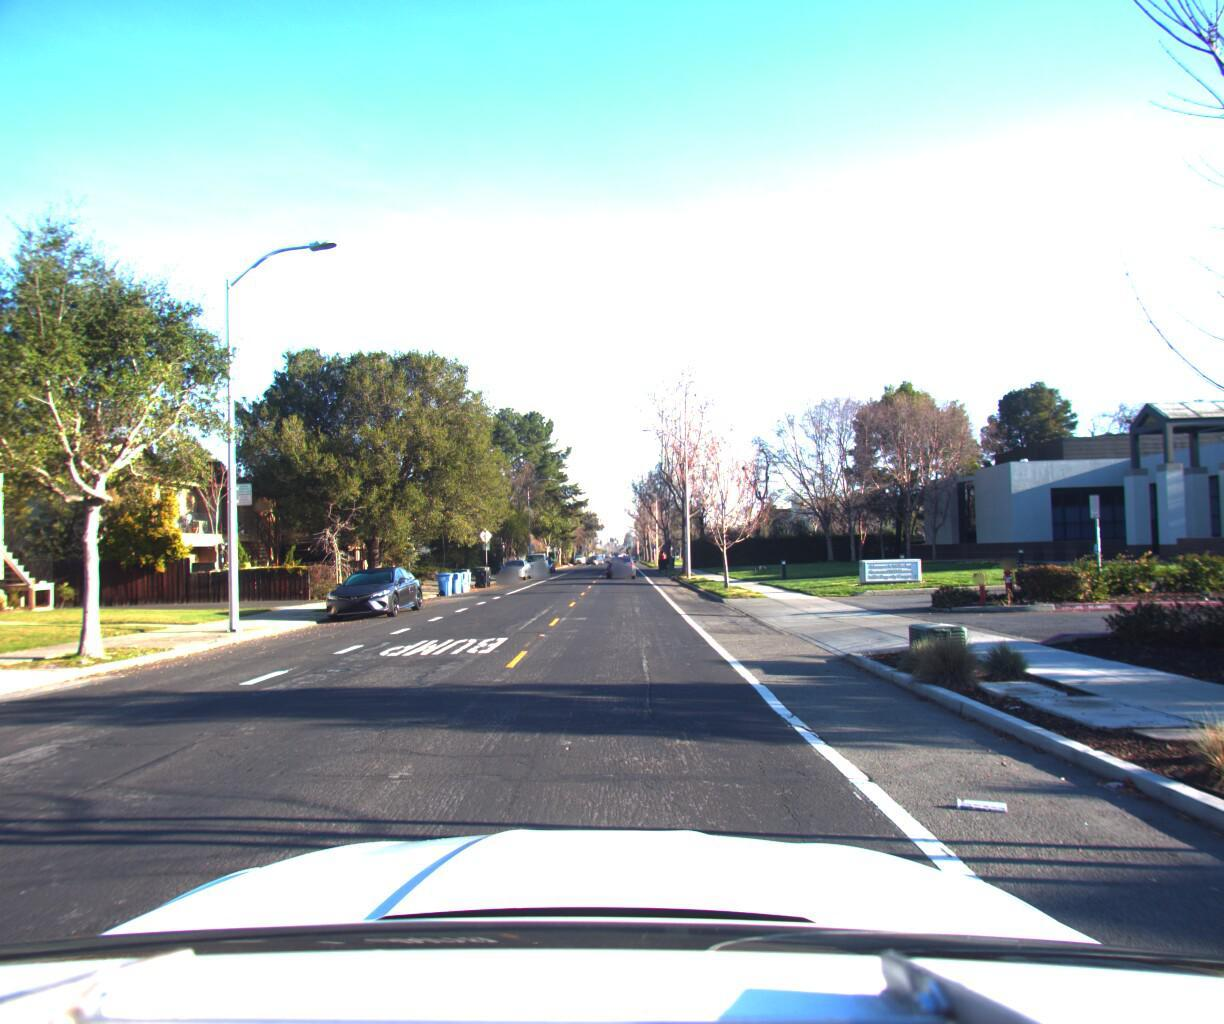car: (319, 559, 432, 616), (495, 550, 535, 575), (604, 546, 637, 573), (523, 543, 551, 566)
